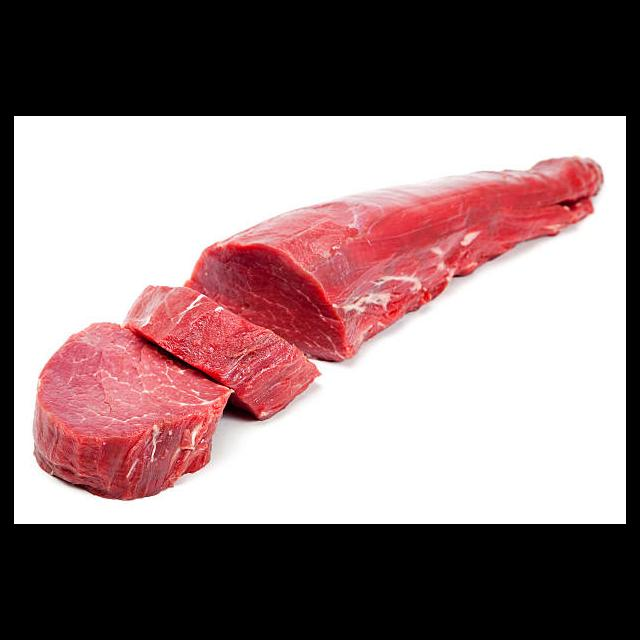beef: (31, 153, 603, 501)
